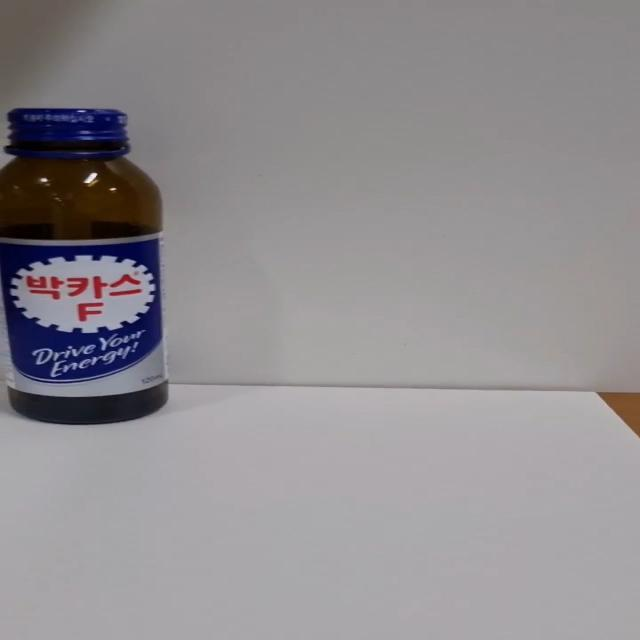Glass: (0, 108, 169, 428)
